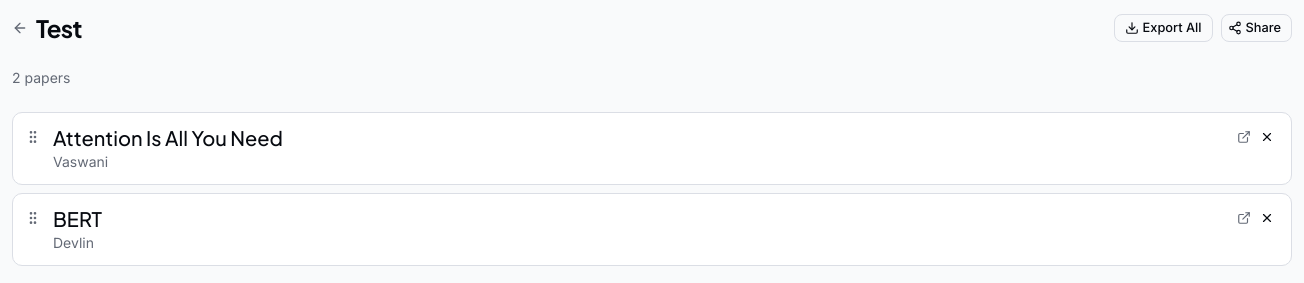
Test case: CollectionDetailPage › removes paper when remove button clicked
Step 1. Click the button named "remove" in the row of "Attention Is All You Need" → (1267,137), box [1255,125,1279,149]
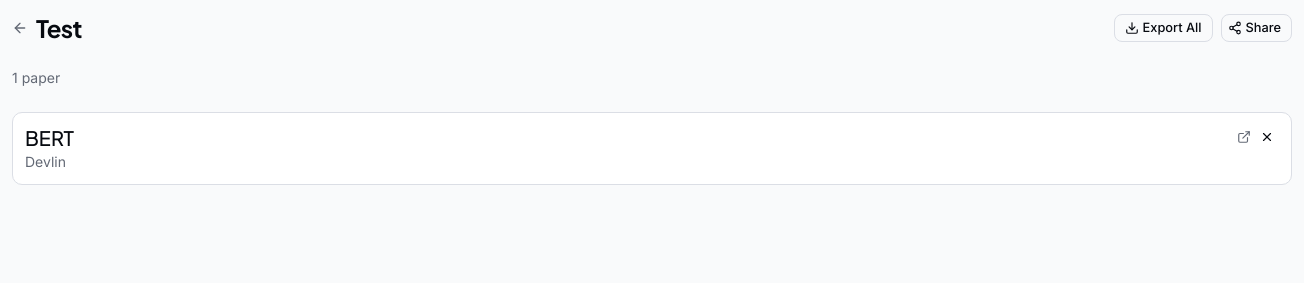
Expected: the heading "BERT" is shown, [25,125,74,150]
Now the heading "Attention Is All You Need" is gone
